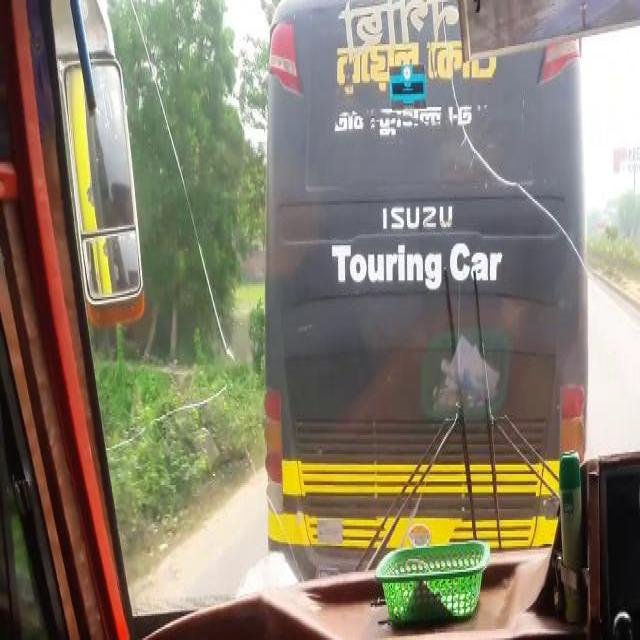bus: (262, 1, 588, 543)
